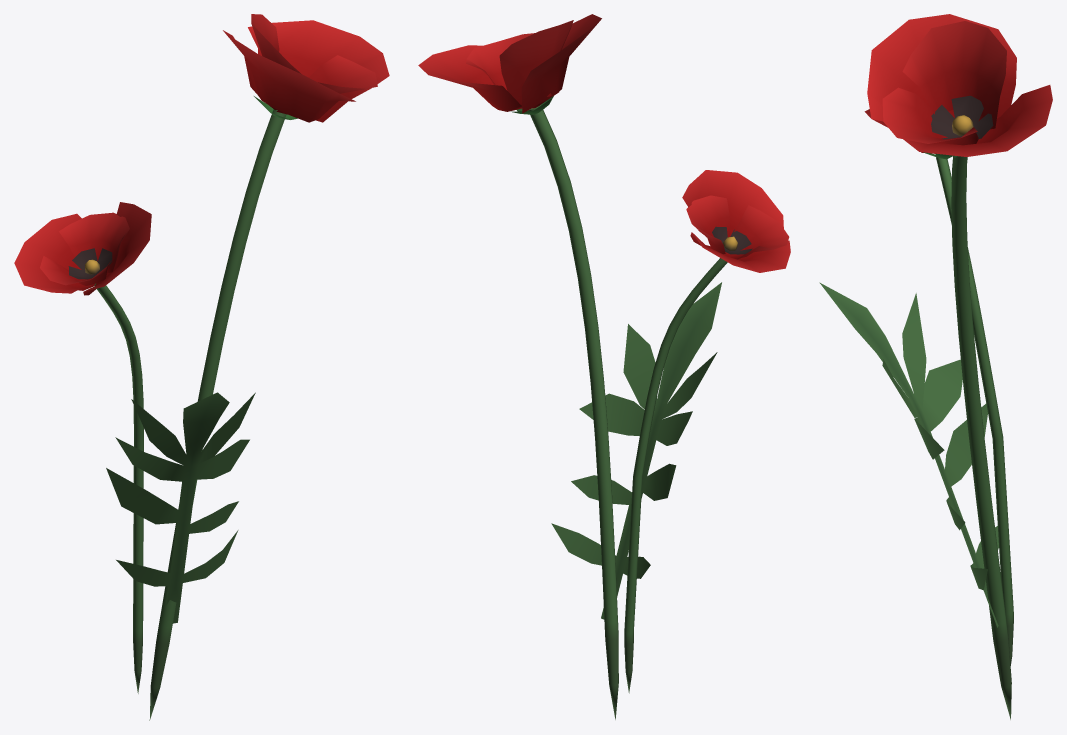
File: plants-flowers-poppy_v1.glb
3 renders of one model, left to right at view 1: azimuth 30°, elevation 25°; view 2: azimuth 150°, elevation 25°; view 3: azimuth 270°, elevation 25°, orthographic. The views are drawn at different scales.
Visible parts, largest first — view 1: Poppy_v1; view 2: Poppy_v1; view 3: Poppy_v1.
Part boxes in pixels (bbox=[...]): Poppy_v1: bbox=[14, 14, 389, 720]; Poppy_v1: bbox=[418, 14, 790, 719]; Poppy_v1: bbox=[819, 14, 1052, 719].
Bounding box in the file's own units: 0.3298 × 0.6 × 0.1714.
